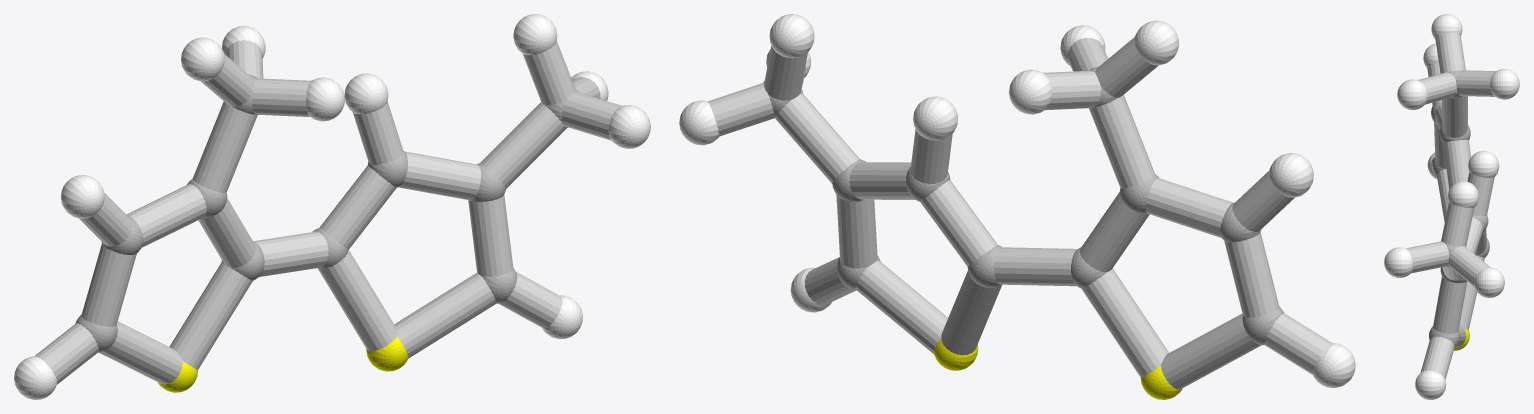
Rendered from Methylthiophene_Phi_20_Theta_170_Methylthiophene.glb.
3 renders of one model, left to right at view 1: azimuth 30°, elevation 25°; view 2: azimuth 150°, elevation 25°; view 3: azimuth 270°, elevation 25°, orthographic. The views are drawn at different scales.
Visible parts, largest first — view 1: grp7965, grp3621, grp1, grp7241; view 2: grp7965, grp3621, grp1, grp7241; view 3: grp7965, grp3621, grp1.
Part boxes in pixels (box(x1,y1,x2,y2)): grp7965: box(34, 40, 621, 384); grp3621: box(14, 14, 650, 399); grp1: box(75, 74, 579, 352); grp7241: box(157, 337, 408, 392); grp7965: box(708, 37, 1331, 389); grp3621: box(679, 14, 1355, 387); grp1: box(763, 66, 1283, 345); grp7241: box(934, 339, 1182, 399); grp7965: box(1406, 32, 1495, 379); grp3621: box(1384, 14, 1519, 399); grp1: box(1429, 70, 1489, 347).
Size of the model in its own units: 9.78 by 5.72 by 2.62.
